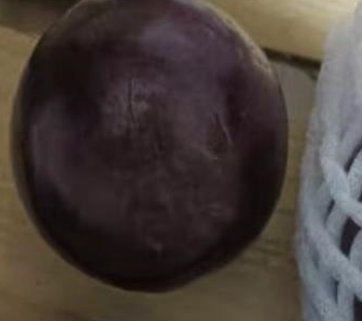plum_B: (10, 1, 289, 294)
